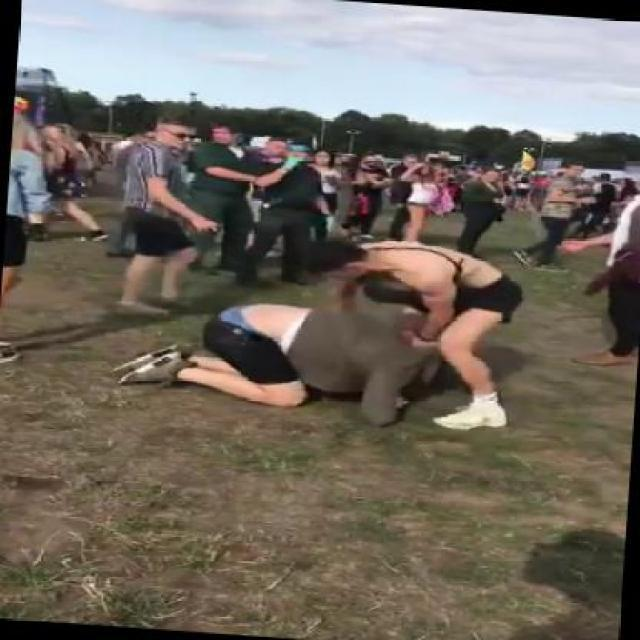fight: (110, 220, 535, 438)
